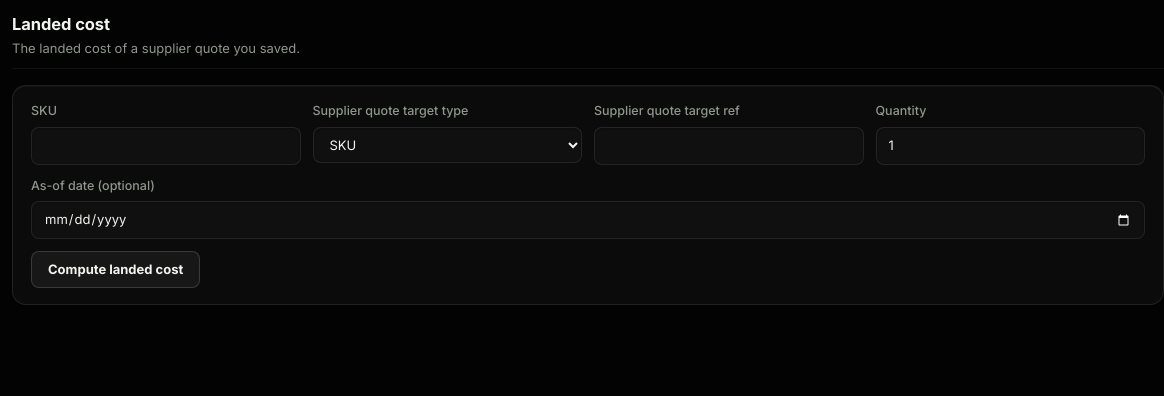
what a missing input says › Landed cost shows it instead of a bare id
Type "SKU-1" into the field labelled "SKU" at (166, 146), box [31, 127, 300, 164]
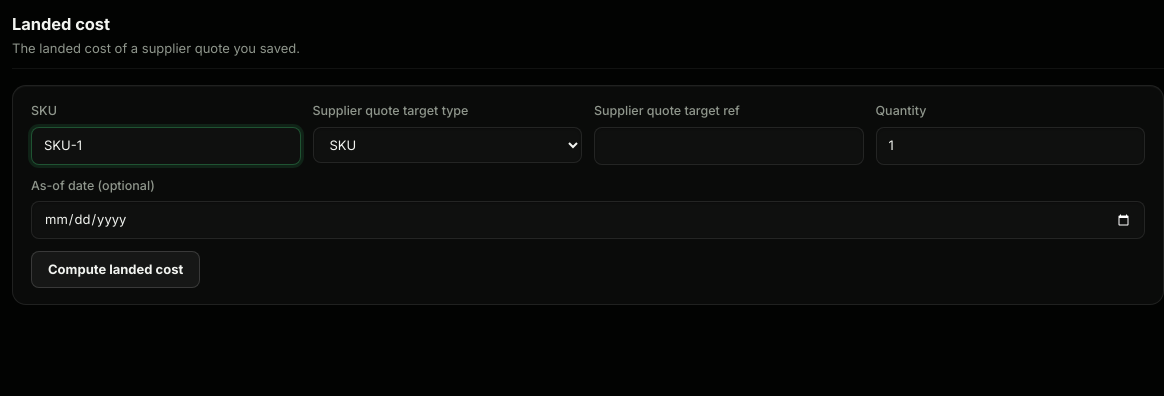
Type "SKU-1" into the field labelled "Supplier quote target ref" at (729, 146), box [594, 127, 864, 164]
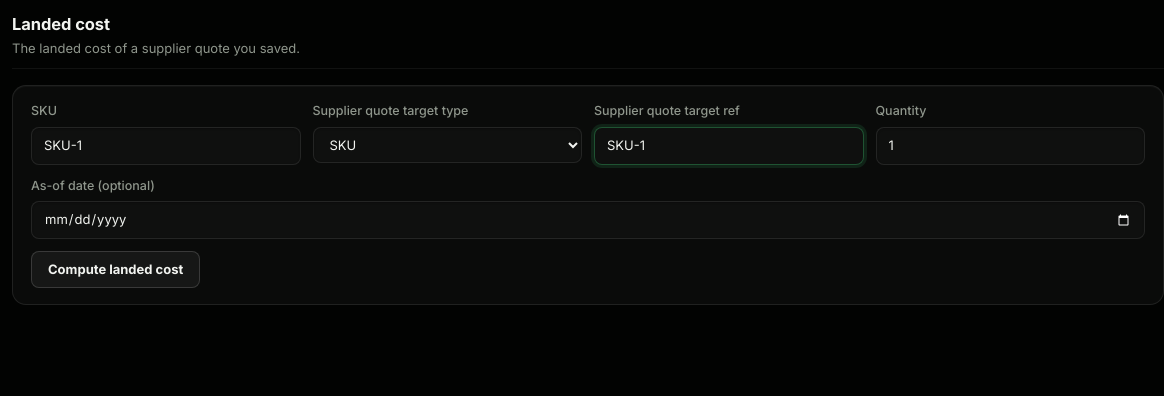
Type "100" into the number field labelled "Quantity" at (1010, 146), box [876, 127, 1145, 164]
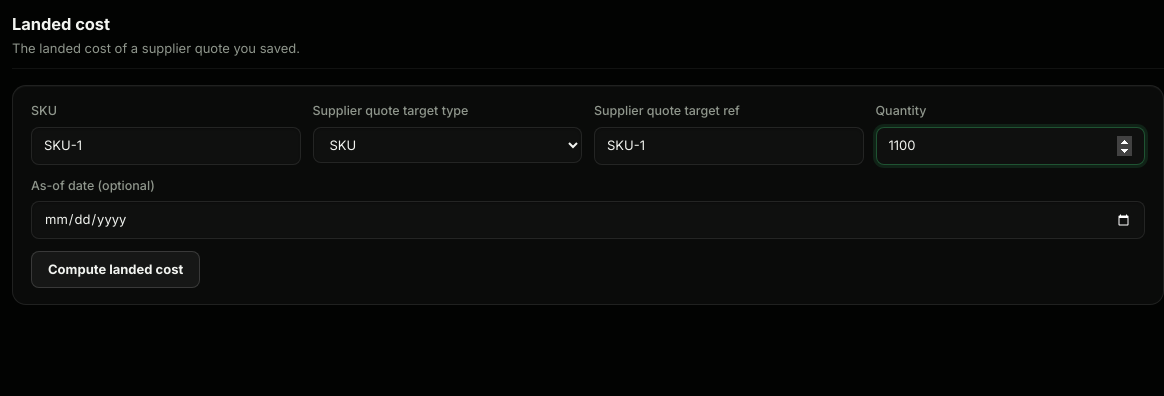
Click the button "Compute landed cost" at (116, 270), box [31, 251, 200, 288]
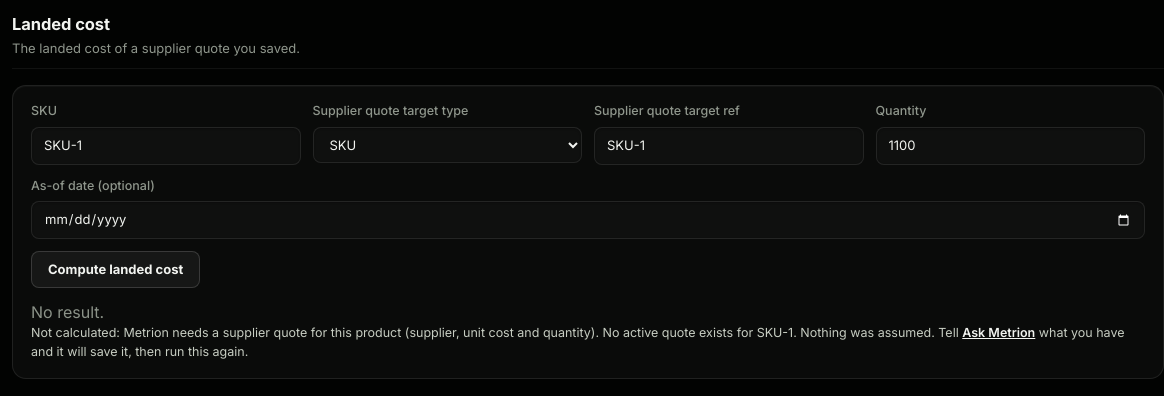
Expected: the text "Metrion needs a supplier quote for this product" is shown, [31, 324, 1145, 362]
